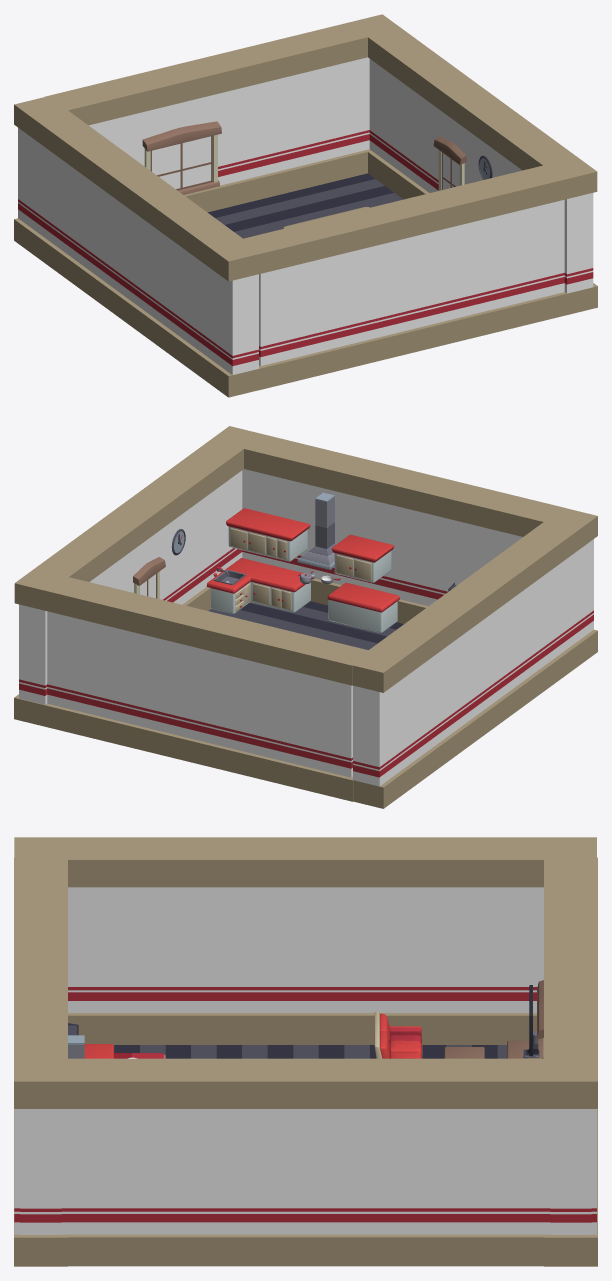
File: cocina.fbx
3 views of the same model, one above another, from view 1: azimuth 30°, elevation 25°; view 2: azimuth 150°, elevation 25°; view 3: azimuth 270°, elevation 25° (orthographic). The views are drawn at different scales.
Parts seen in each view (by area): view 1: pared_drch, pared_back, pared_izq, pared_front, suelo.001, ventana_00.001, ventana_01.001; view 2: pared_izq, pared_back, pared_drch, pared_front, mesada_00.001, suelo.001, alacena_00.001, mesada_01.001, alacena_01.001, estractor.001, ventana_01.001; view 3: pared_front, pared_back, pared_izq, pared_drch, suelo.001, sofa.001.
Boxes of the visible parts, x1,y1,x2,y2 form: pared_drch: (243, 157, 597, 390); pared_back: (14, 97, 262, 397); pared_izq: (44, 14, 401, 212); pared_front: (368, 15, 596, 294); suelo.001: (207, 173, 403, 238); ventana_00.001: (142, 121, 221, 194); ventana_01.001: (433, 136, 466, 190); pared_izq: (14, 569, 371, 801); pared_back: (350, 508, 597, 808); pared_drch: (210, 426, 566, 623); pared_front: (15, 427, 259, 705); mesada_00.001: (206, 558, 312, 613); suelo.001: (208, 601, 403, 649); alacena_00.001: (226, 508, 310, 561); mesada_01.001: (327, 582, 399, 632); alacena_01.001: (331, 534, 394, 582); estractor.001: (297, 492, 335, 570); ventana_01.001: (133, 557, 165, 599); pared_front: (14, 1058, 596, 1266); pared_back: (14, 837, 596, 1044); pared_izq: (544, 857, 597, 1266); pared_drch: (14, 857, 67, 1266); suelo.001: (113, 1045, 506, 1058); sofa.001: (374, 1011, 422, 1058).
Size of the model in its own units: 23.87 by 8.46 by 24.07.
